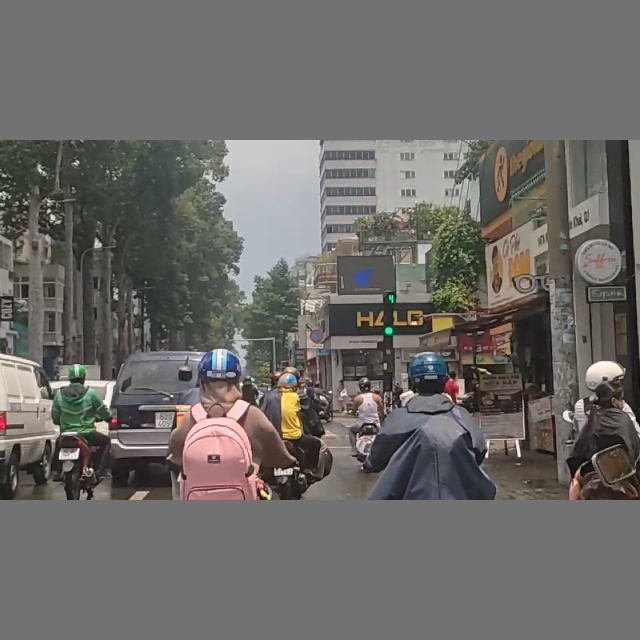P.131a: (309, 329, 325, 345)
